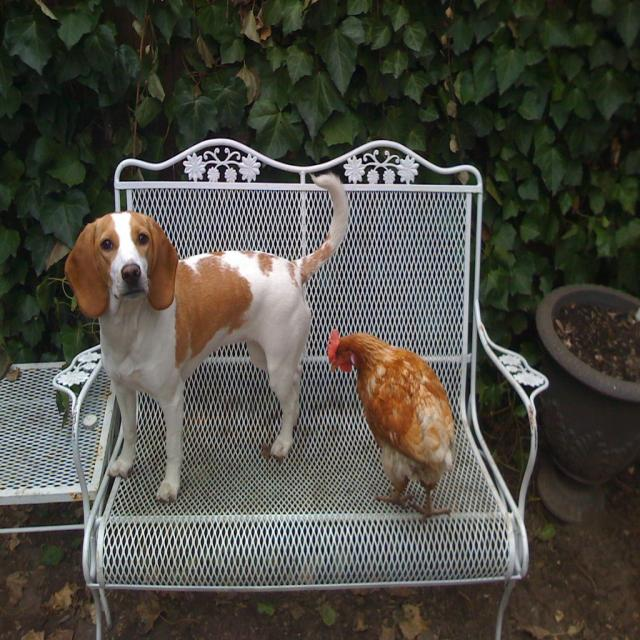Chicken: (65, 170, 349, 504), (322, 324, 454, 506)
